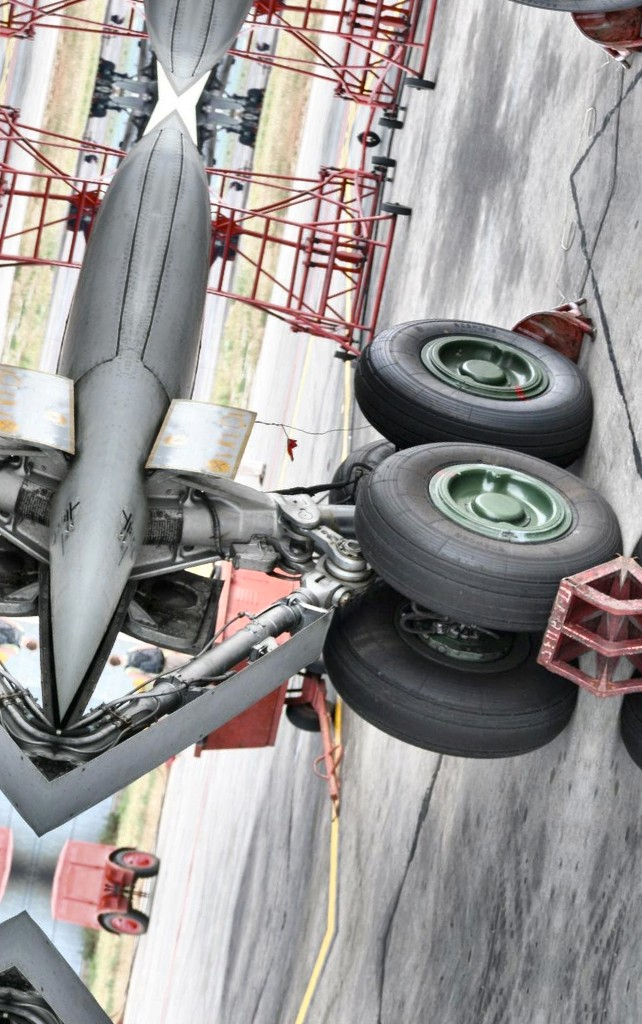chock: (528, 540, 626, 699), (508, 284, 603, 366), (602, 554, 642, 713), (563, 0, 642, 74)
wheel: (337, 419, 636, 651), (309, 575, 588, 777), (343, 300, 605, 474), (327, 431, 394, 518)
